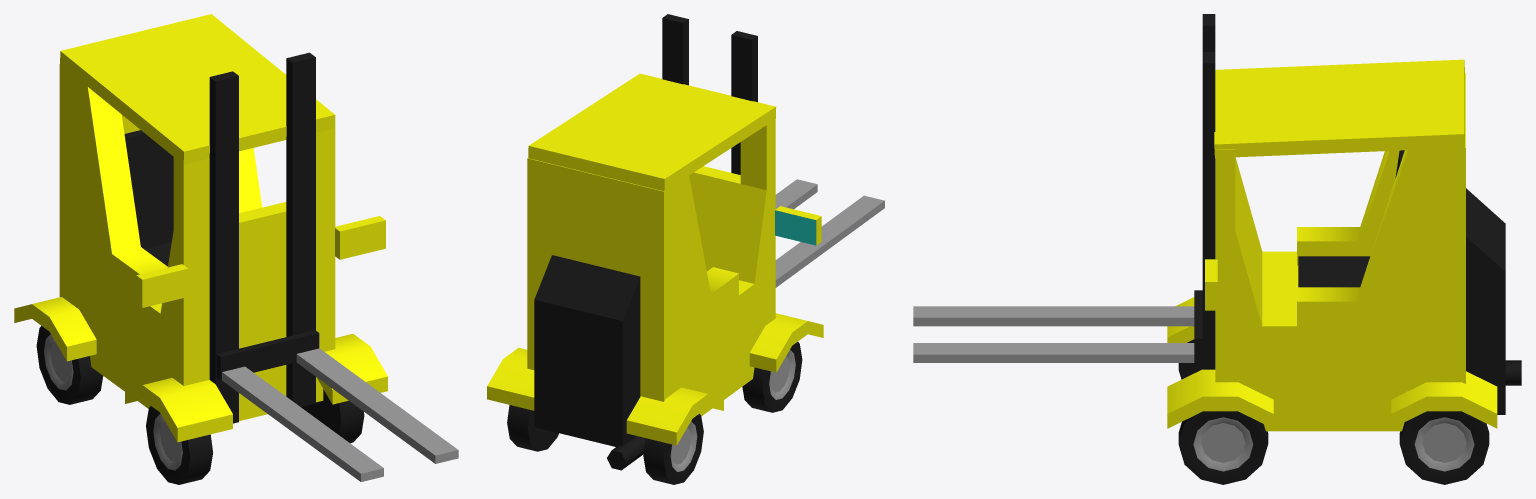
Rendered from M_Vehicle_Transpalette_A.FBX.
3 renders of one model, left to right at view 1: azimuth 30°, elevation 25°; view 2: azimuth 150°, elevation 25°; view 3: azimuth 270°, elevation 25°, orthographic. The views are drawn at different scales.
Visible parts, largest first — view 1: Vehicle_Transpalette_A; view 2: Vehicle_Transpalette_A; view 3: Vehicle_Transpalette_A.
Boxes of the visible parts, x1,y1,x2,y2 form: Vehicle_Transpalette_A: (14, 14, 458, 484); Vehicle_Transpalette_A: (487, 14, 884, 484); Vehicle_Transpalette_A: (913, 14, 1521, 484).
Size of the model in its own units: 204 by 319 by 436.
